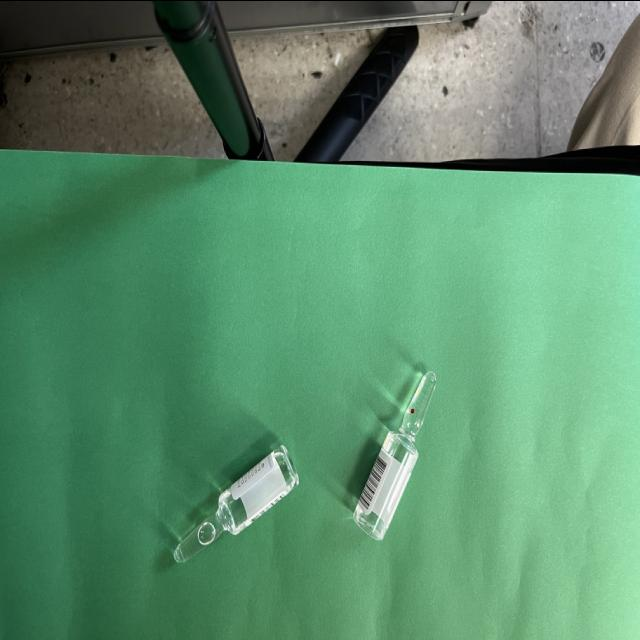Ampoules: (174, 444, 298, 560), (353, 370, 436, 539)
